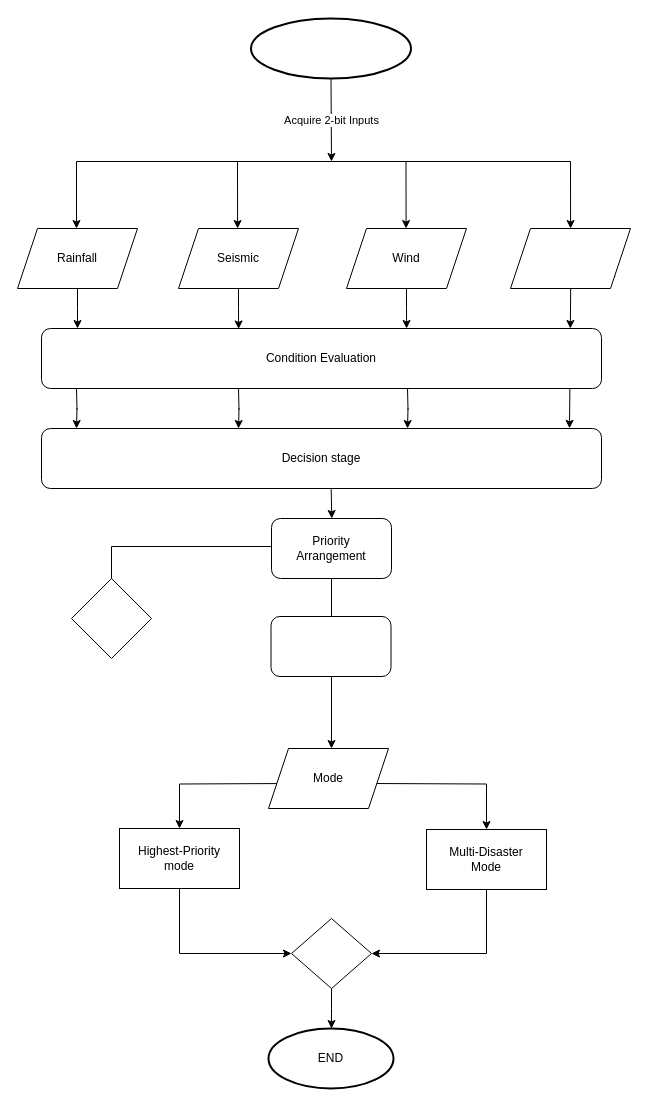
Some shapes in this 648 by 1106 pixel diagram are drawn without their labels. Each missing label, with the centre of its shape:
"Decoded Disaster" goes at (330,646).
"Output Display" goes at (331,953).
"Safe/ Danger" goes at (111,618).
"Sea Level" goes at (570,258).
"START" goes at (331,48).
